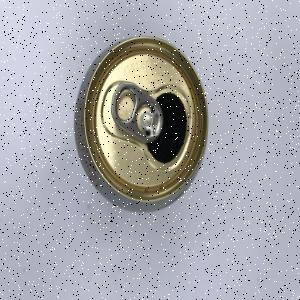Can: (74, 35, 210, 215)
